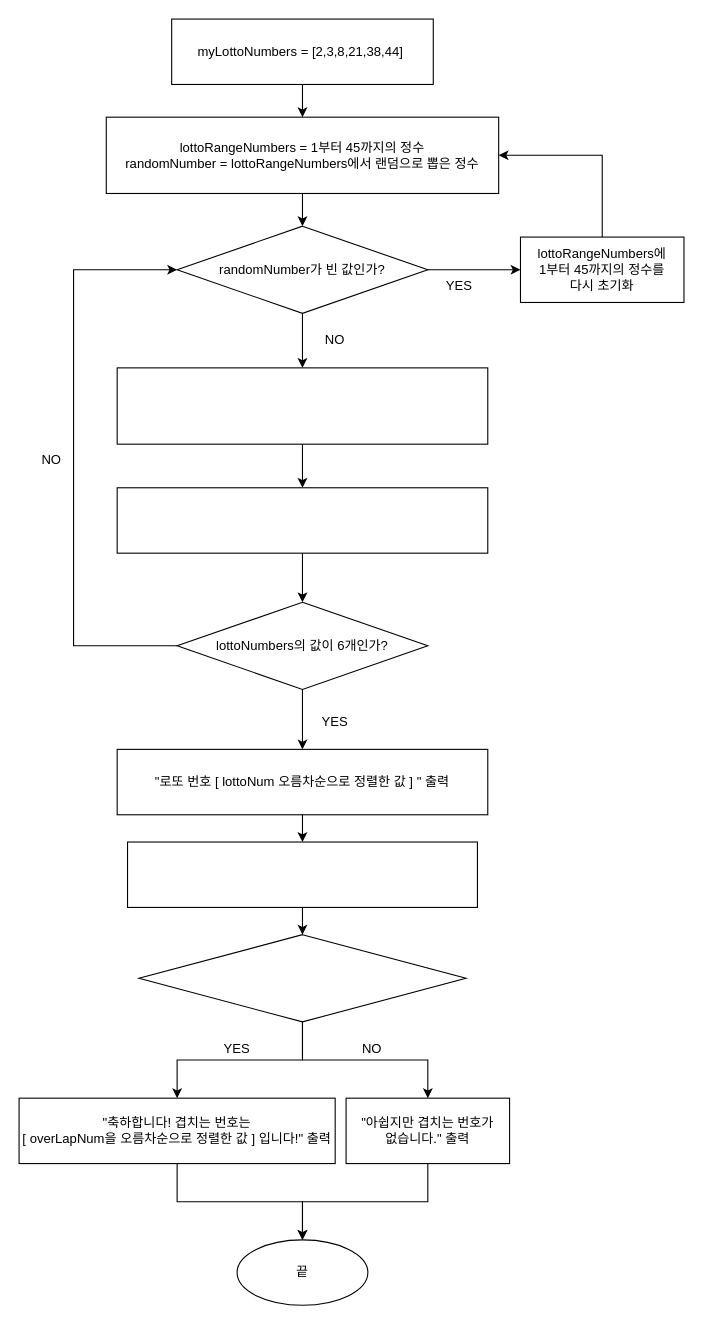
The diagram is 703 pixels wide and 1324 high, and some of its shapes have lost their labels. Here are the shapes that lost their labels. From the top down, the box of each, then its label:
(116, 367, 488, 444): lottoNumbers에 randomNumber 값 추가
(116, 487, 488, 553): lottoRangeNumbers에서 randomNumber 값 빼기
(126, 841, 477, 907): overLapNum : lottonMun과 myNum의 중복 값
(138, 934, 466, 1022): overLapNum의 멤버 개수가 0이 아닌가?
